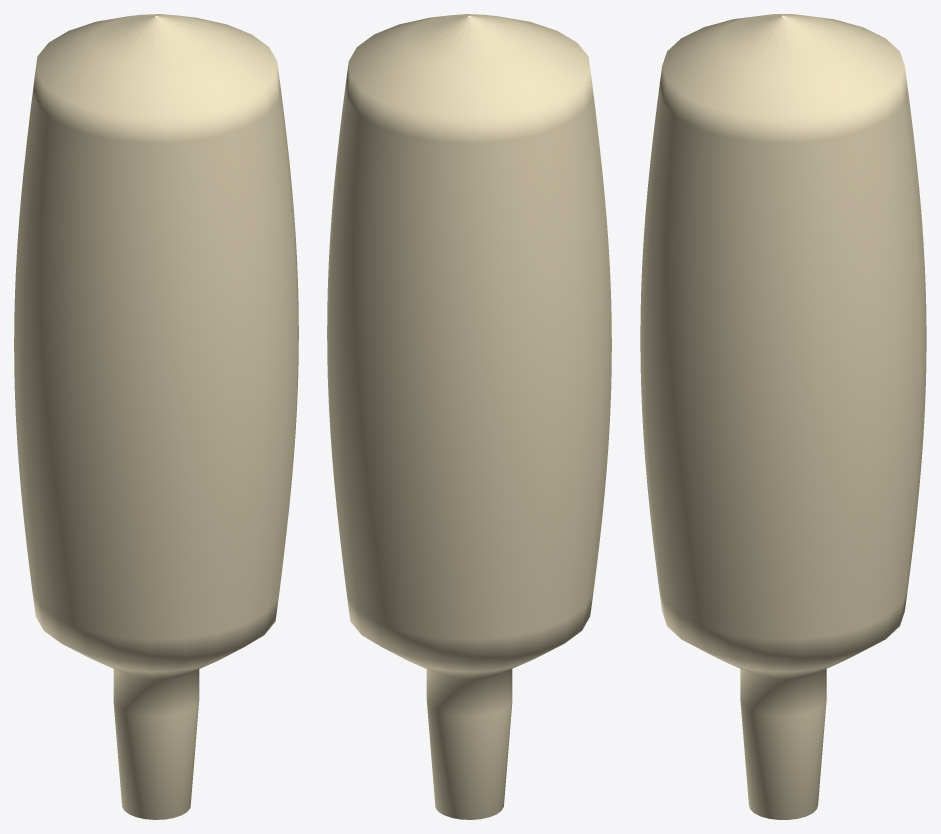
File: tusa-duro.glb
The picture shows the model from 3 angles, left to right: view 1: azimuth 30°, elevation 25°; view 2: azimuth 150°, elevation 25°; view 3: azimuth 270°, elevation 25°; orthographic projection.
Visible parts, largest first — view 1: tusa; view 2: tusa; view 3: tusa.
Boxes of the visible parts, bbox=[...] form: tusa: bbox=[14, 14, 298, 819]; tusa: bbox=[327, 14, 611, 819]; tusa: bbox=[640, 14, 926, 819].
Size of the model in its own units: 0.8196 by 2.56 by 0.828.
